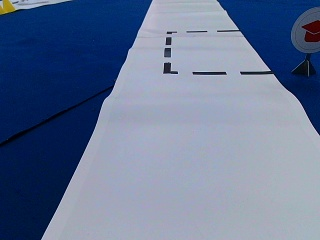school: (291, 6, 319, 52)
